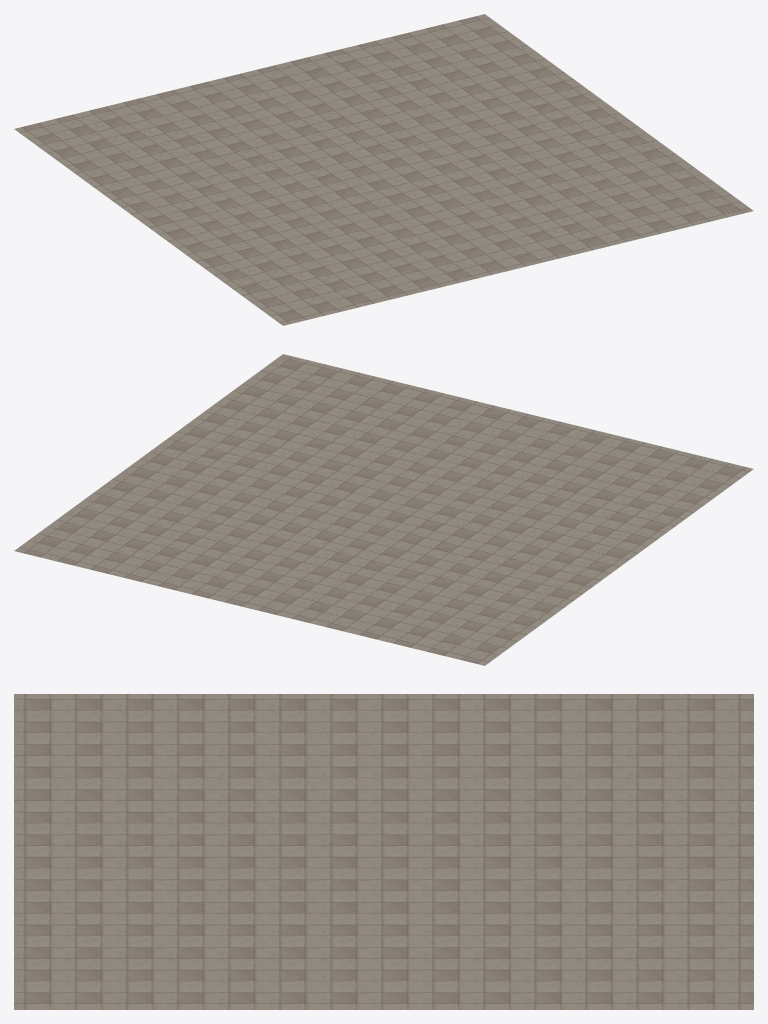
File: cs_lobbynew02_Terrains_02_dm01.FBX
3 views of the same model, one above another, from view 1: azimuth 30°, elevation 25°; view 2: azimuth 150°, elevation 25°; view 3: azimuth 270°, elevation 25° (orthographic). The views are drawn at different scales.
Visible parts, largest first — view 1: cs_lobbynew02_Terrains_02_dm01; view 2: cs_lobbynew02_Terrains_02_dm01; view 3: cs_lobbynew02_Terrains_02_dm01.
Part boxes in pixels (bbox=[...]): cs_lobbynew02_Terrains_02_dm01: bbox=[14, 14, 753, 325]; cs_lobbynew02_Terrains_02_dm01: bbox=[14, 354, 753, 665]; cs_lobbynew02_Terrains_02_dm01: bbox=[14, 694, 753, 1009].
Size of the model in its own units: 2028 by 1.23e-05 by 2008.
